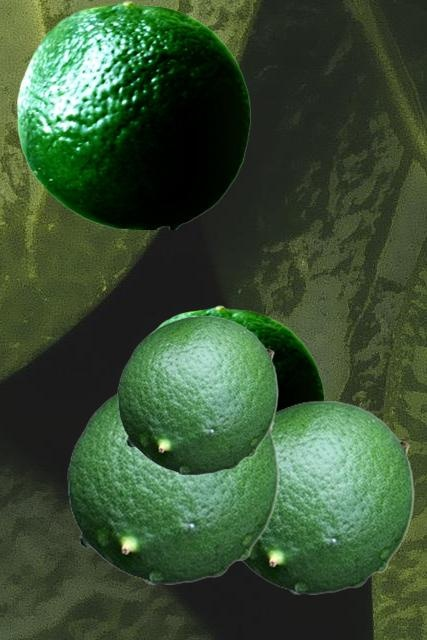calamansi: (17, 0, 249, 228), (67, 391, 278, 583), (240, 400, 413, 593), (117, 315, 277, 474), (147, 305, 323, 410)
